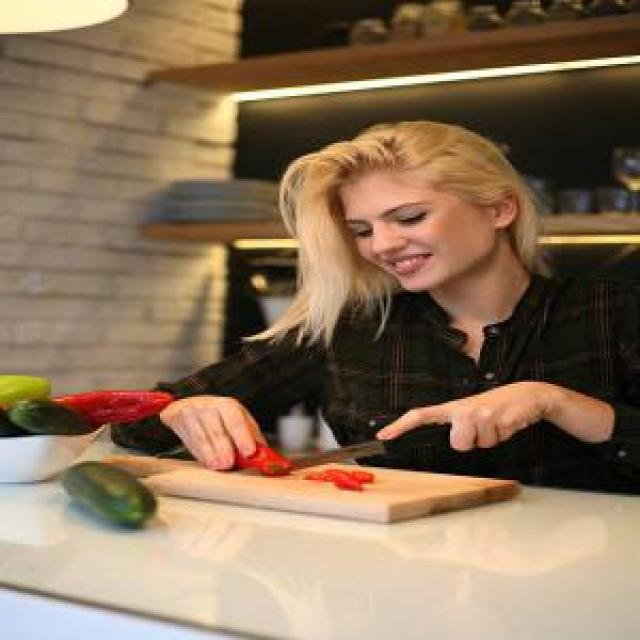knife: (248, 371, 520, 479)
